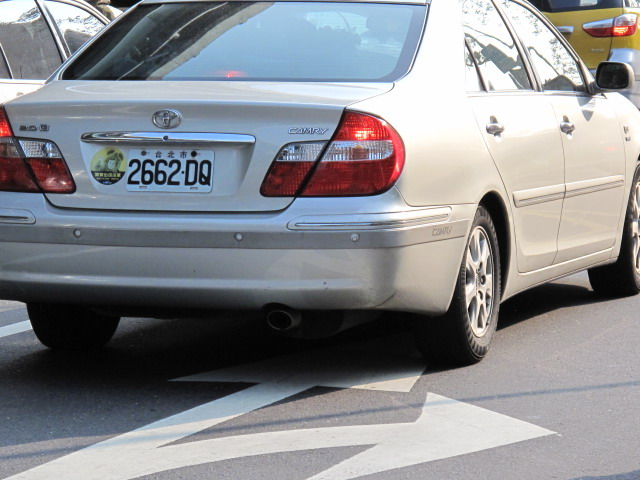plate: (123, 147, 215, 195)
